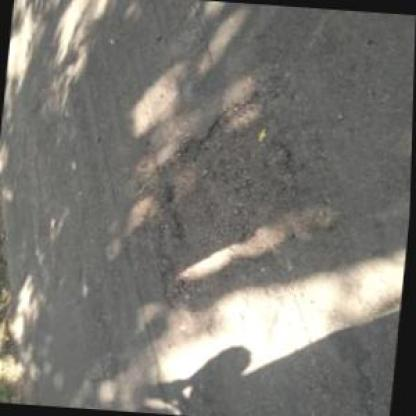pothole: (144, 81, 319, 320)
